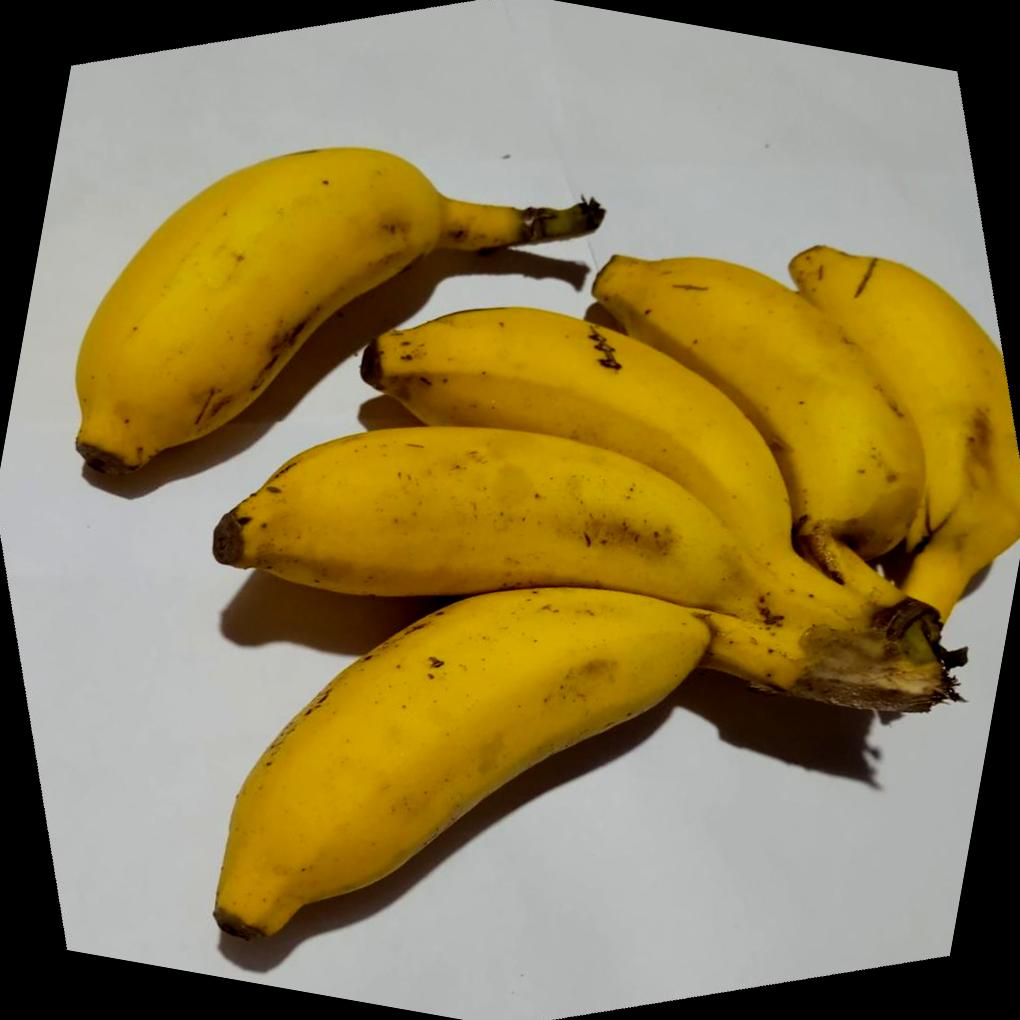Banana Ripe: (10, 44, 1020, 881), (147, 501, 905, 1020), (564, 117, 1020, 689), (42, 73, 526, 608), (190, 331, 865, 695), (322, 195, 891, 624)
